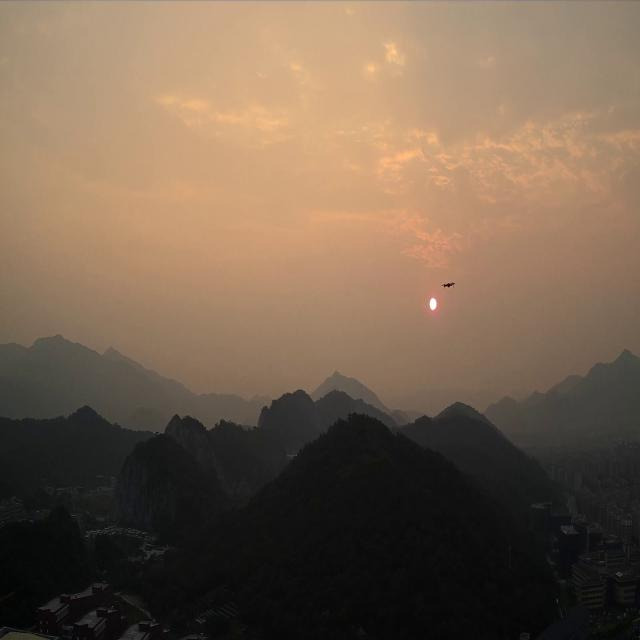drone: (441, 282, 455, 289)
